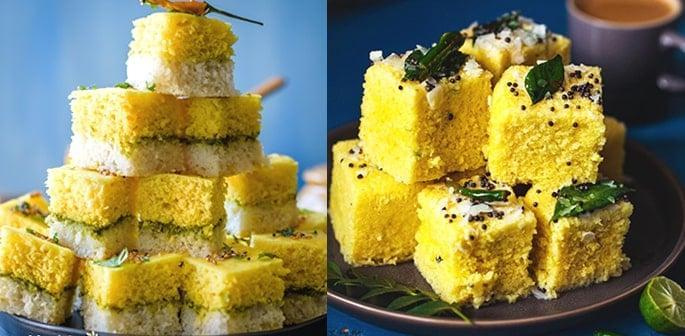dhokla: (21, 11, 316, 336), (349, 14, 645, 296)
